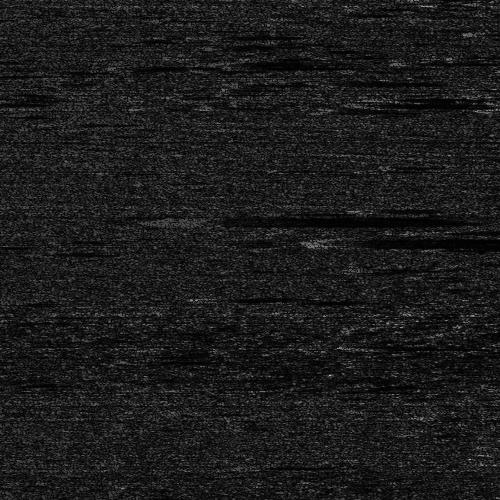rock: (288, 235, 351, 248), (152, 213, 205, 226), (211, 292, 264, 299), (472, 104, 500, 111), (233, 462, 264, 467), (228, 60, 269, 63), (336, 79, 357, 84)
shadow: (179, 213, 420, 226), (320, 235, 500, 248), (238, 292, 378, 299), (347, 79, 465, 84), (249, 60, 388, 63), (249, 462, 332, 467)
